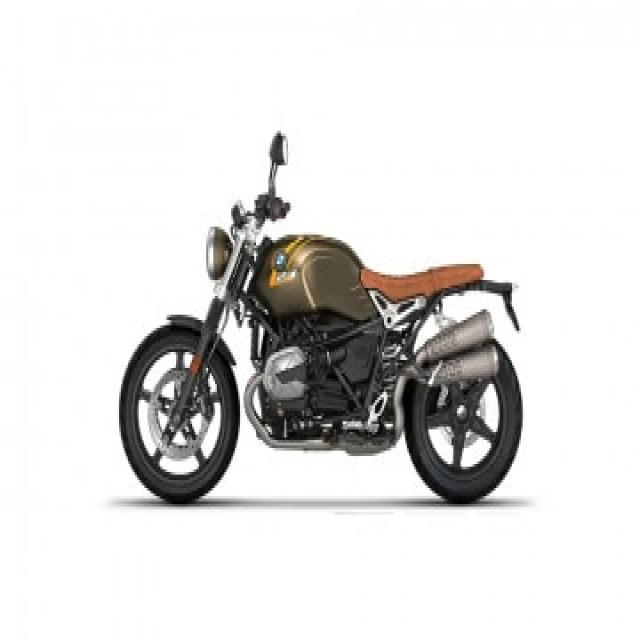bike: (118, 130, 524, 506)
